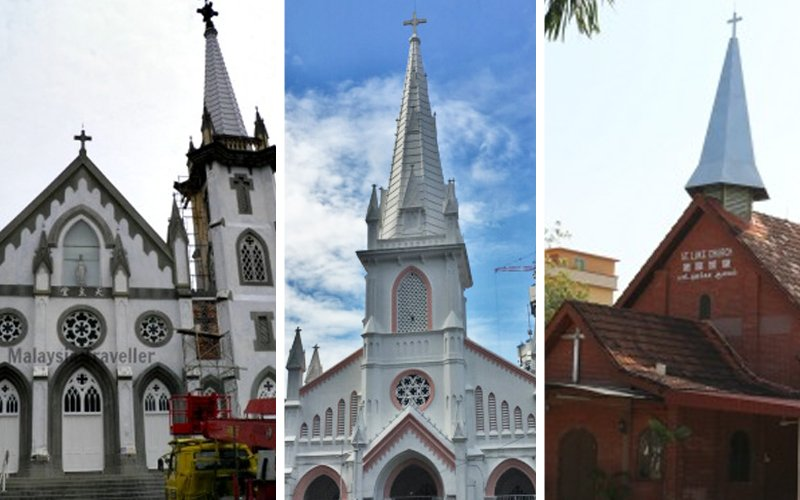Church: (550, 10, 799, 470), (18, 6, 268, 464), (313, 6, 512, 477)
